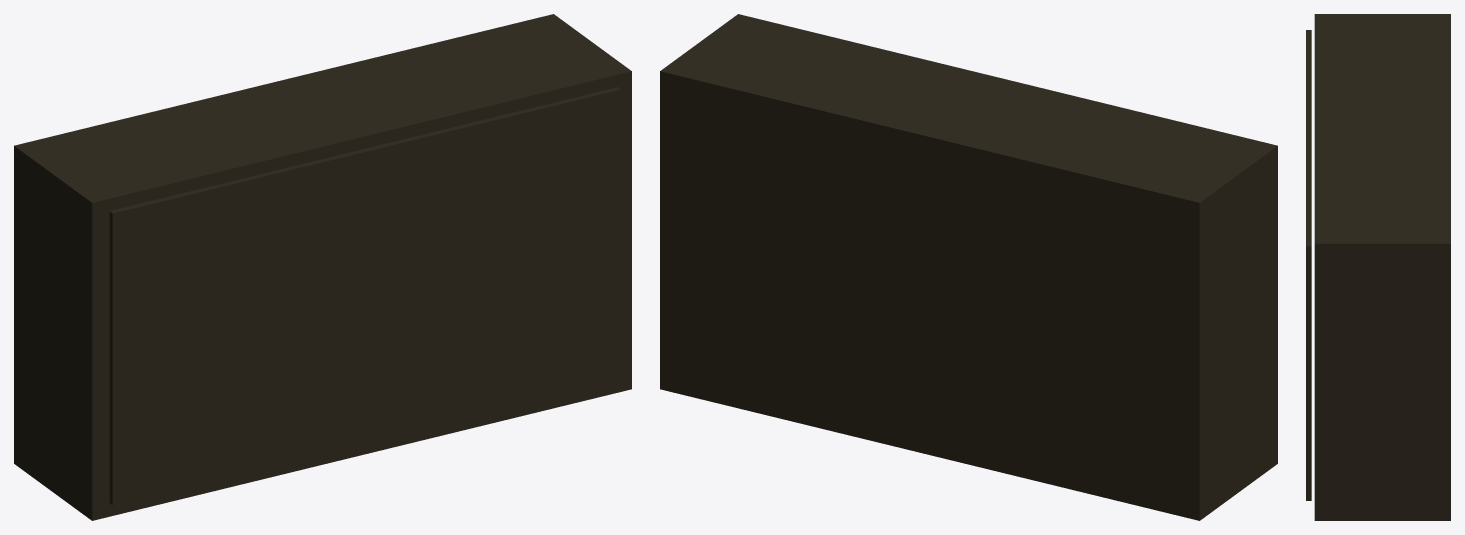
Rendered from Box_w_Numbers.fbx.
3 views of the same model, side by side, from view 1: azimuth 30°, elevation 25°; view 2: azimuth 150°, elevation 25°; view 3: azimuth 270°, elevation 25° (orthographic). The views are drawn at different scales.
Visible parts, largest first — view 1: Box_Lid, Box_w_Number; view 2: Box_w_Number; view 3: Box_w_Number, Box_Lid.
Boxes of the visible parts, <box> form: Box_Lid: <box>109,87,621,505</box>; Box_w_Number: <box>14,14,631,520</box>; Box_w_Number: <box>660,14,1277,520</box>; Box_w_Number: <box>1314,14,1450,520</box>; Box_Lid: <box>1306,30,1311,500</box>.
Bounding box in the file's own units: 12.24 × 6.89 × 3.27.
